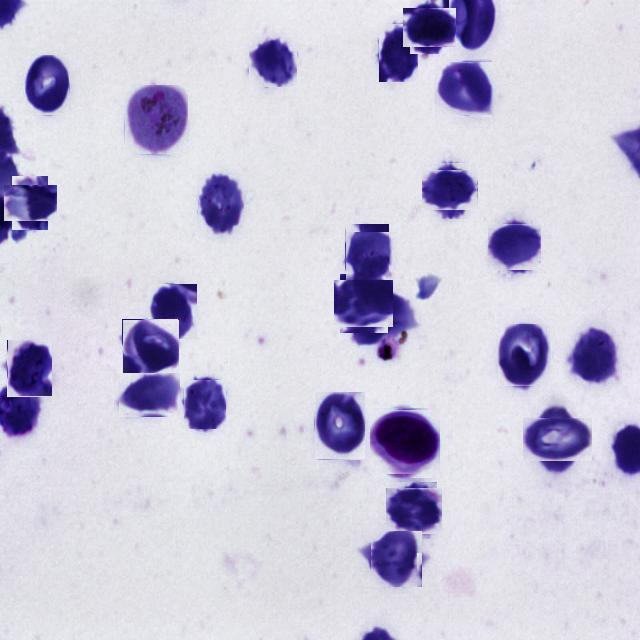difficult: (124, 85, 188, 155)
leukocyte: (372, 408, 439, 476)
red blood cell: (314, 392, 365, 460), (436, 60, 494, 116), (498, 324, 550, 386), (122, 319, 178, 376), (530, 411, 586, 468), (369, 532, 424, 586), (198, 173, 244, 237), (570, 327, 619, 384), (118, 373, 180, 418), (338, 277, 390, 330), (148, 284, 197, 339), (25, 55, 69, 115), (388, 485, 439, 536), (345, 224, 389, 283), (7, 340, 52, 397), (489, 222, 539, 272), (249, 38, 297, 87), (379, 24, 418, 82), (426, 167, 474, 214), (184, 380, 227, 429), (407, 4, 452, 50), (8, 180, 52, 226)
